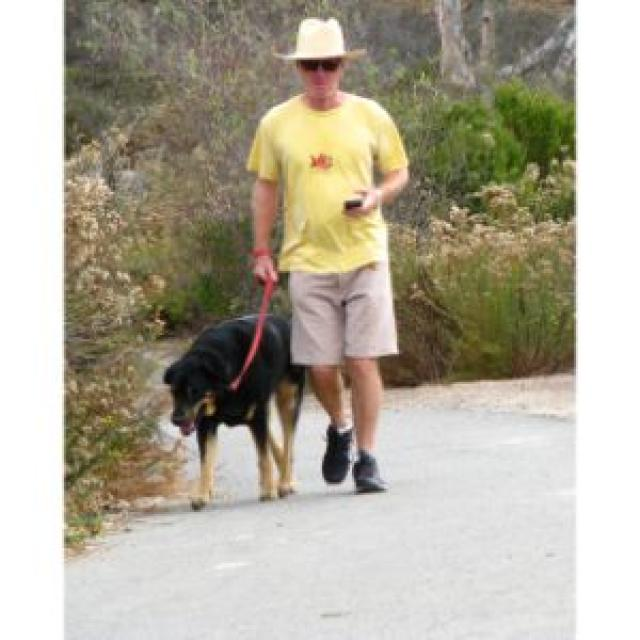nonfall: (261, 21, 406, 486)
